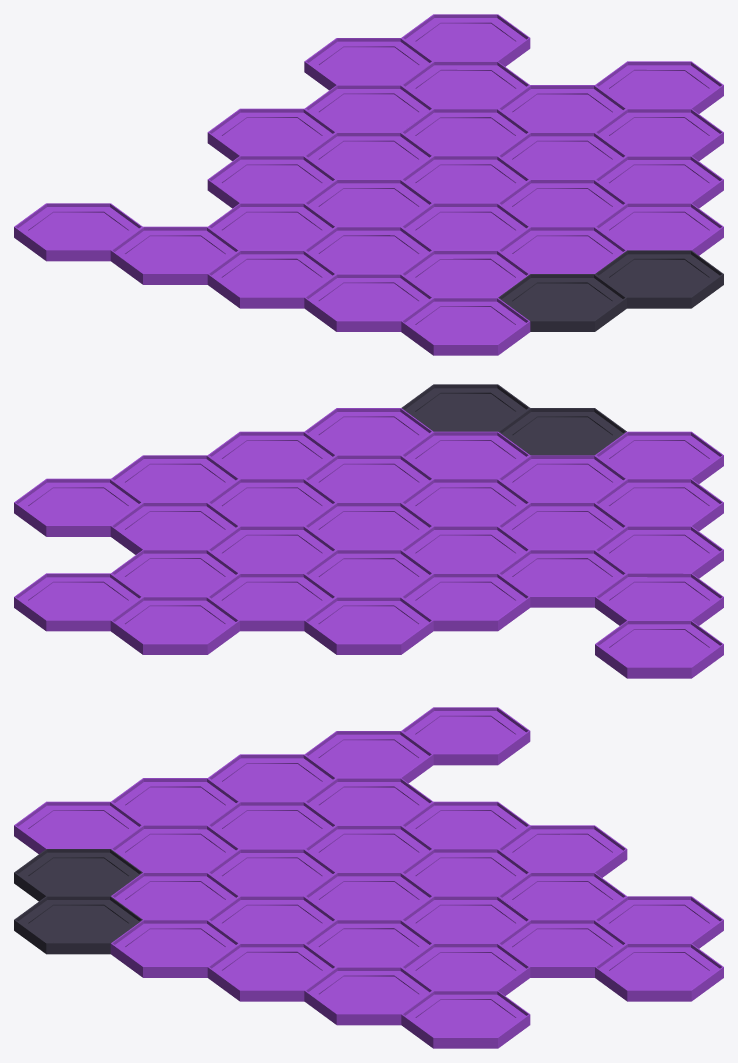
The model's file is MoldInsertStage3_1.fbx.
The picture shows the model from 3 angles, top to bottom: view 1: azimuth 30°, elevation 25°; view 2: azimuth 150°, elevation 25°; view 3: azimuth 270°, elevation 25°; orthographic projection.
Visible parts, largest first — view 1: MoldInsertStage3_1; view 2: MoldInsertStage3_1; view 3: MoldInsertStage3_1.
Part boxes in pixels (box(x1,y1,x2,y2)): MoldInsertStage3_1: box(14, 14, 723, 355); MoldInsertStage3_1: box(14, 384, 723, 678); MoldInsertStage3_1: box(14, 707, 723, 1048).
Size of the model in its own units: 1274 by 19.66 by 1156.
